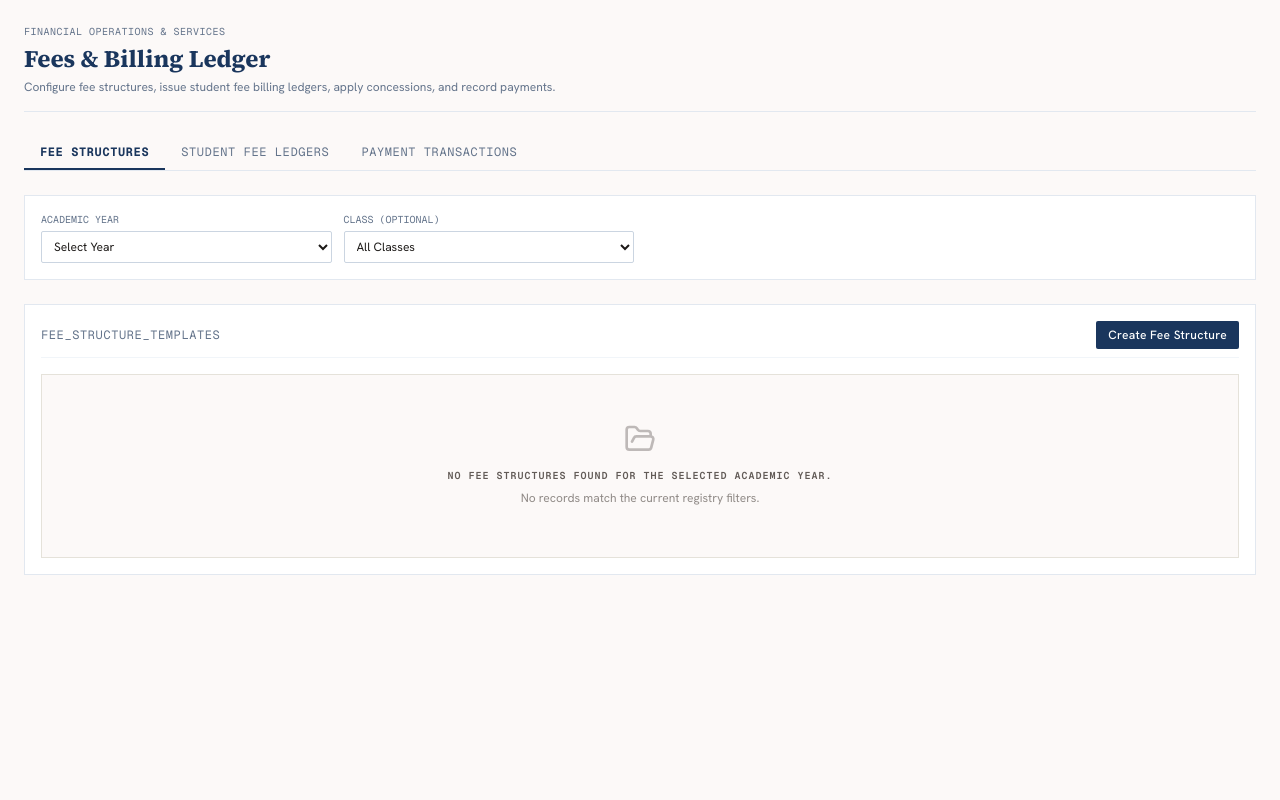
Scenario: FeesPage Component › 6. records fee payment and opens receipt modal
Click the button "Student Fee Ledgers".
click(255, 153)  # box x1=165 y1=136 x2=345 y2=170
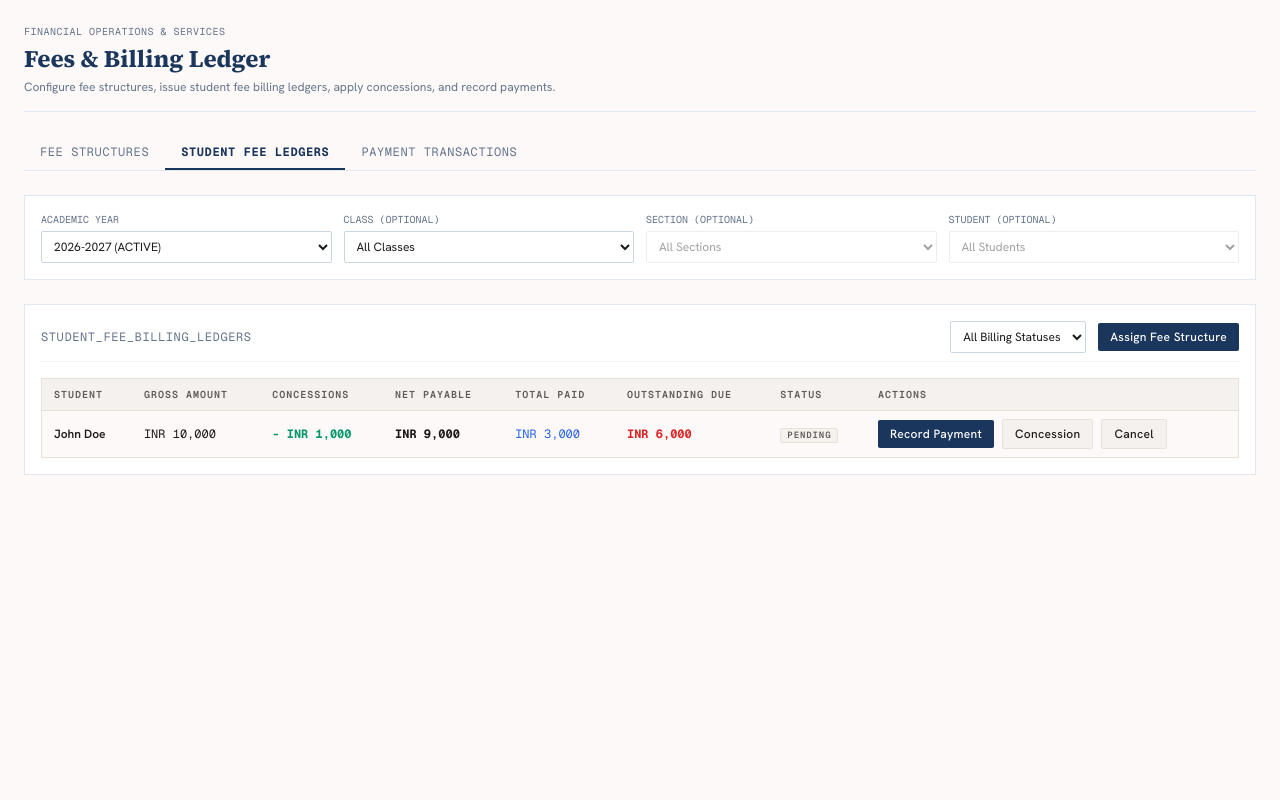
Result: the text "John Doe" is shown at x1=42 y1=410 x2=132 y2=457
Click the button "Record Payment".
click(936, 434)  # box x1=878 y1=420 x2=994 y2=448
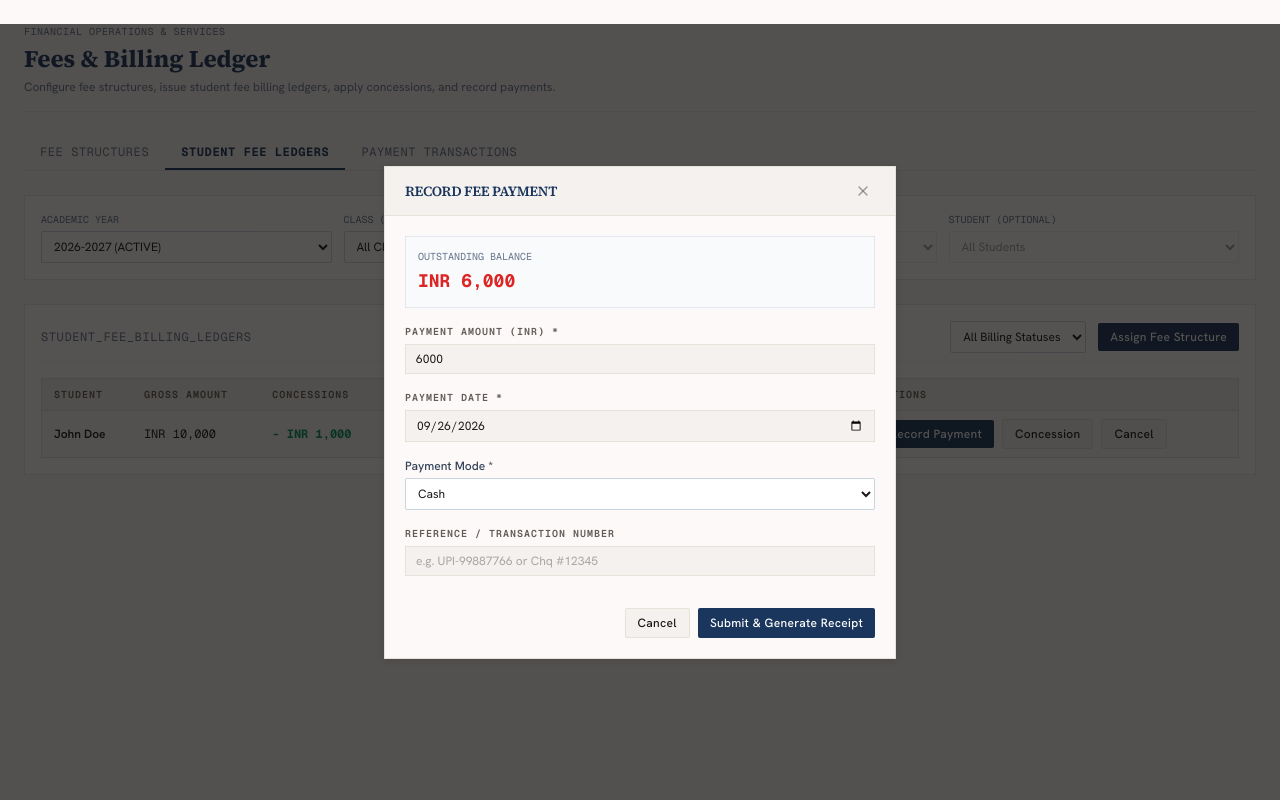
Result: the heading "RECORD FEE PAYMENT" is shown at x1=405 y1=180 x2=557 y2=200
Click the button "Submit & Generate Receipt".
click(786, 622)  # box x1=698 y1=608 x2=875 y2=638
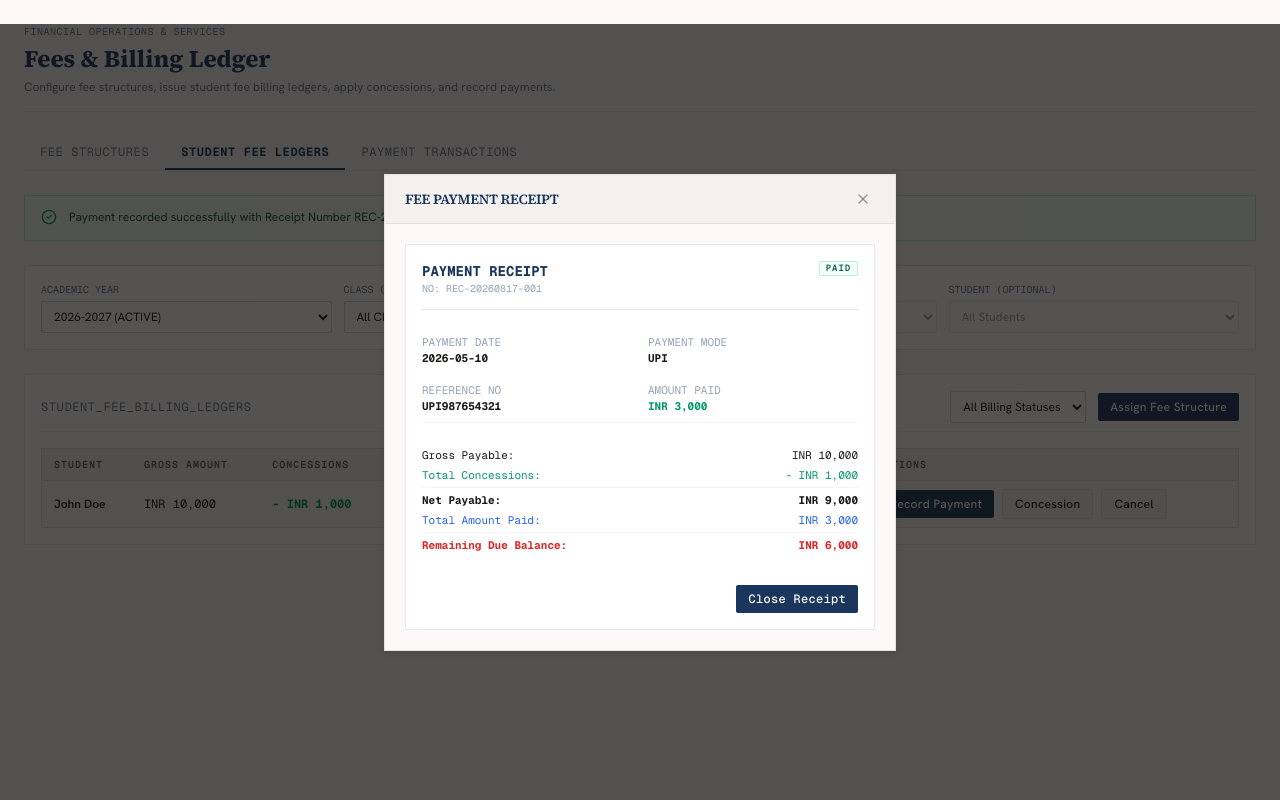
Result: the heading "FEE PAYMENT RECEIPT" is shown at x1=405 y1=188 x2=558 y2=208
Result: the text "NO: REC-20260817-001" is shown at x1=422 y1=280 x2=548 y2=296
